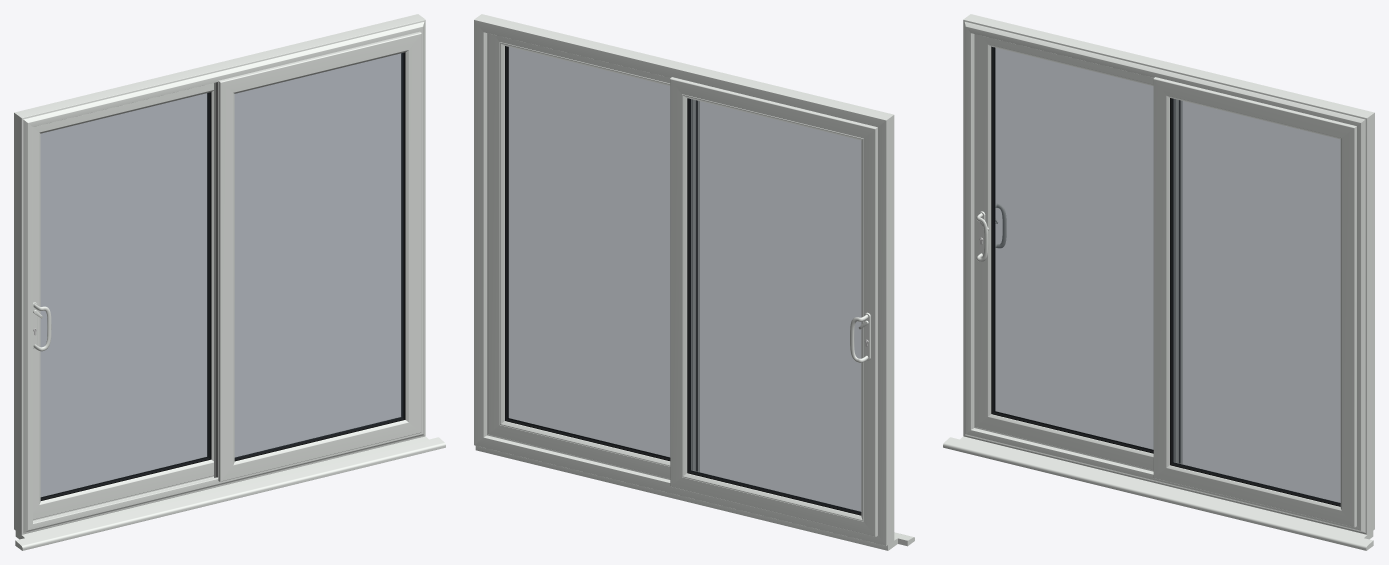
Rendered from upvc-sliding-patio-doors.glb.
3 renders of one model, left to right at view 1: azimuth 30°, elevation 25°; view 2: azimuth 150°, elevation 25°; view 3: azimuth 330°, elevation 25°, orthographic. The views are drawn at different scales.
Parts seen in each view (by area): view 1: object 3, Frame, Gasket 0, Spacer; view 2: object 3, Frame, Gasket 0, Spacer, Mila_ProLinea_Patio; view 3: object 3, Frame, Gasket 0, Spacer, Mila_ProLinea_Patio.
Part boxes in pixels (box(x1,y1,x2,y2)): object 3: box(40, 53, 404, 499); Frame: box(14, 14, 445, 550); Gasket 0: box(41, 52, 405, 500); Spacer: box(40, 52, 404, 500); object 3: box(505, 46, 861, 514); Frame: box(474, 14, 914, 550); Gasket 0: box(505, 46, 861, 515); Spacer: box(505, 46, 861, 514); Mila_ProLinea_Patio: box(850, 312, 870, 362); object 3: box(992, 47, 1340, 505); Frame: box(943, 14, 1374, 550); Gasket 0: box(991, 46, 1340, 506); Spacer: box(992, 47, 1340, 506); Mila_ProLinea_Patio: box(976, 203, 1006, 261).
Bounding box in the file's own units: 2200 × 2100 × 245.
